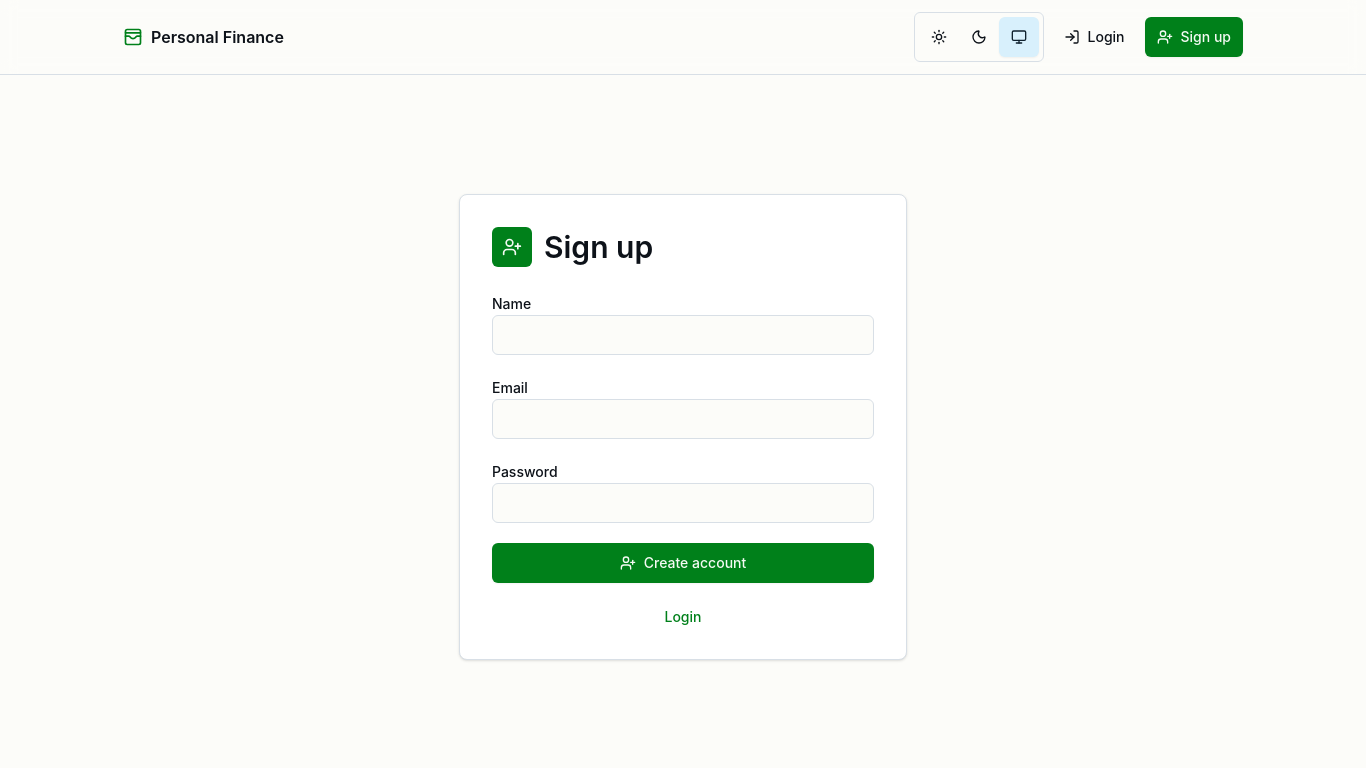
Test: creates an account and navigates to the protected home route
The width and height of the screenshot is (1366, 768).
Expected: the heading "Sign up" is shown, [544,229,653,265]
Type "Ada Lovelace" into the field labelled "Name" at [683, 335], box [492,315,874,355]
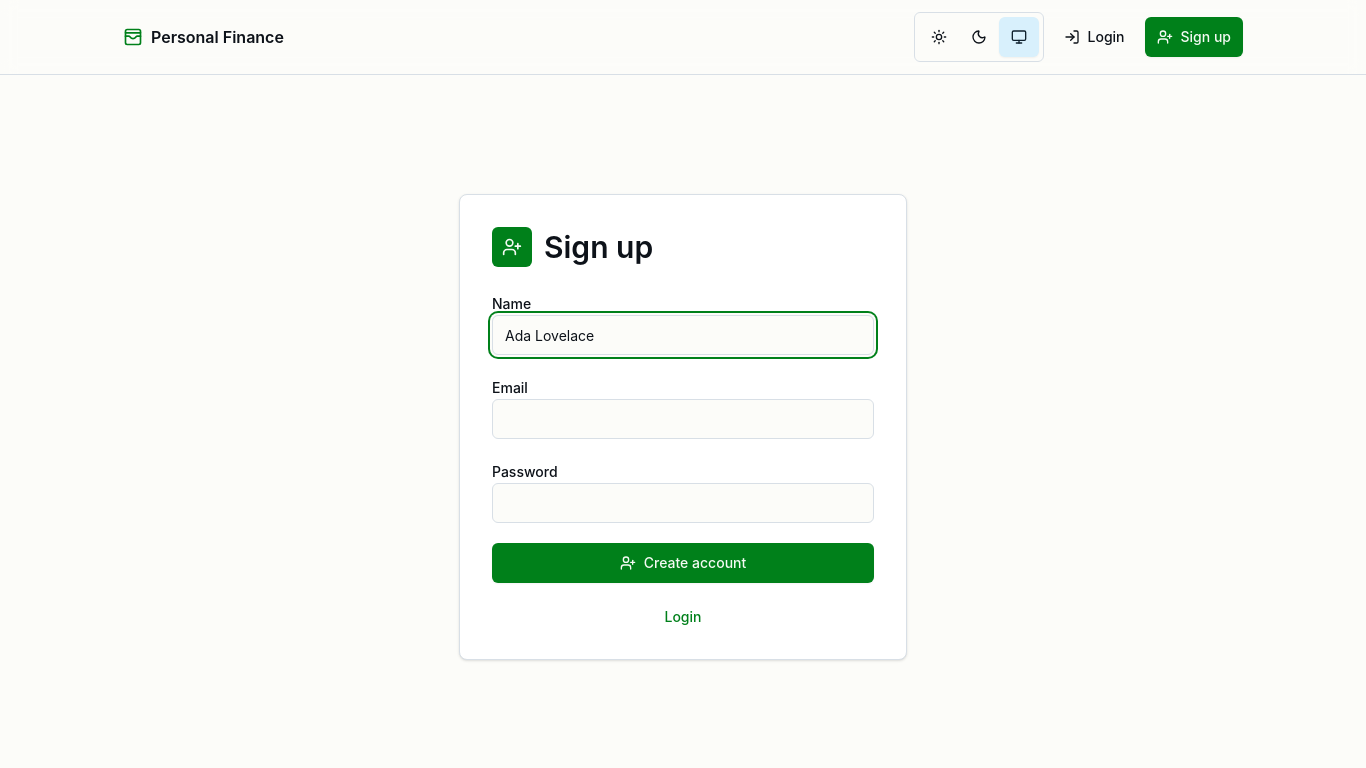
Type "ada@example.com" into the field labelled "Email" at [683, 419], box [492,399,874,439]
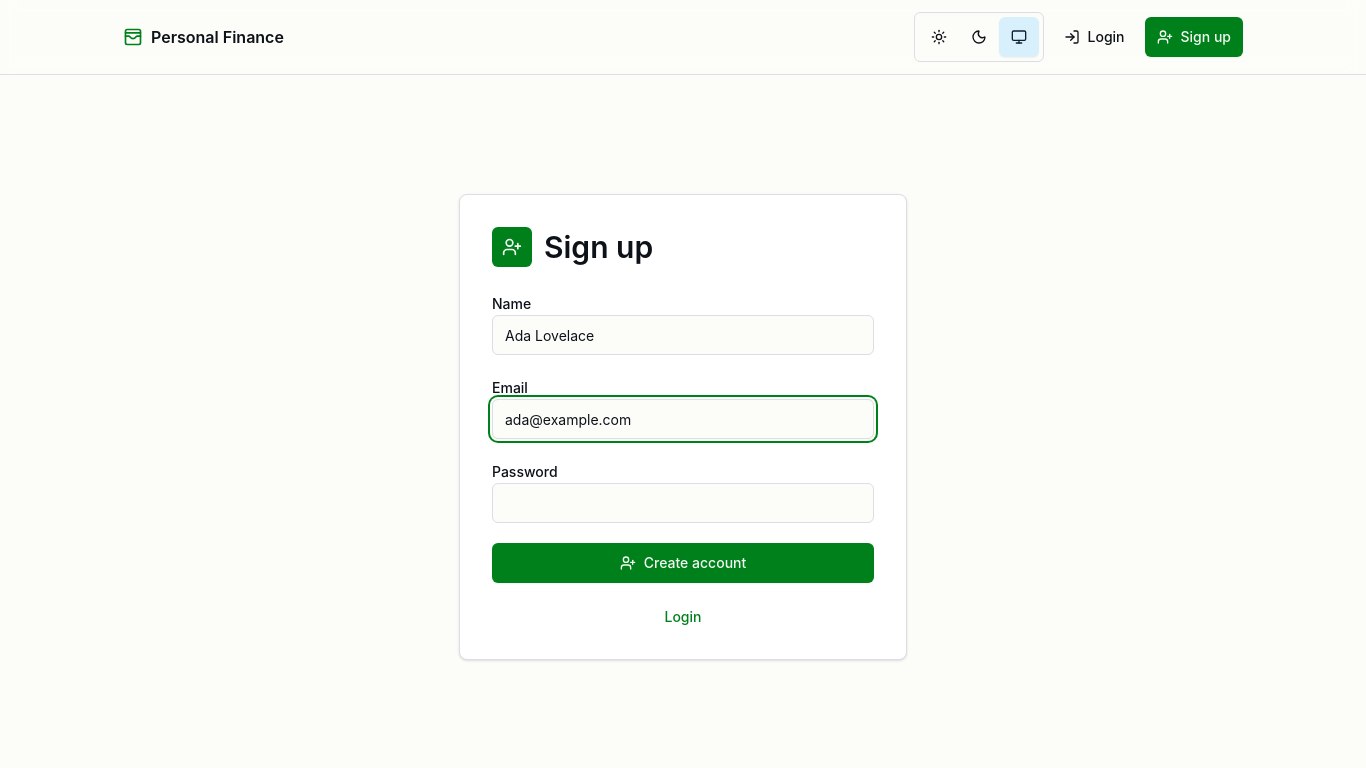
Type "correct horse battery staple" into the password field labelled "Password" at [683, 503], box [492,483,874,523]
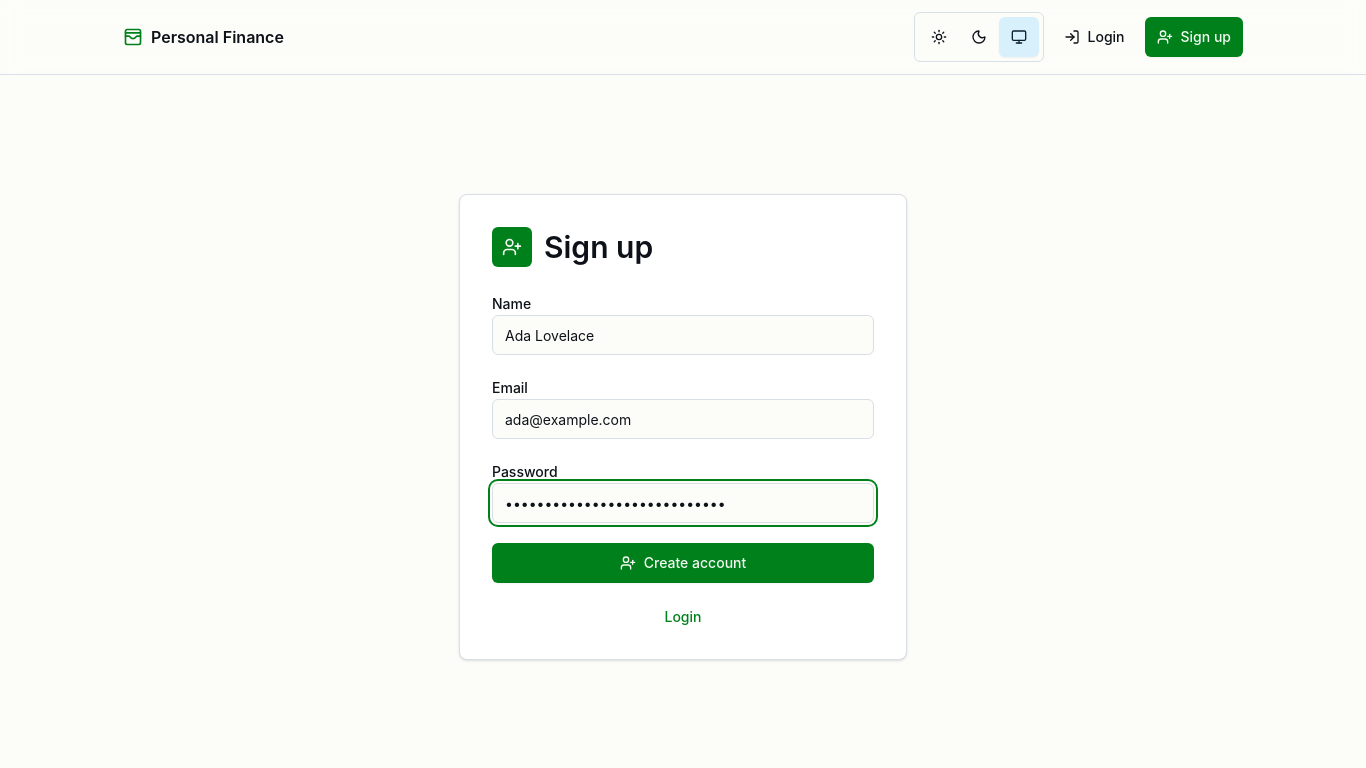
Click the button "Create account" at [683, 563], box [492,543,874,583]
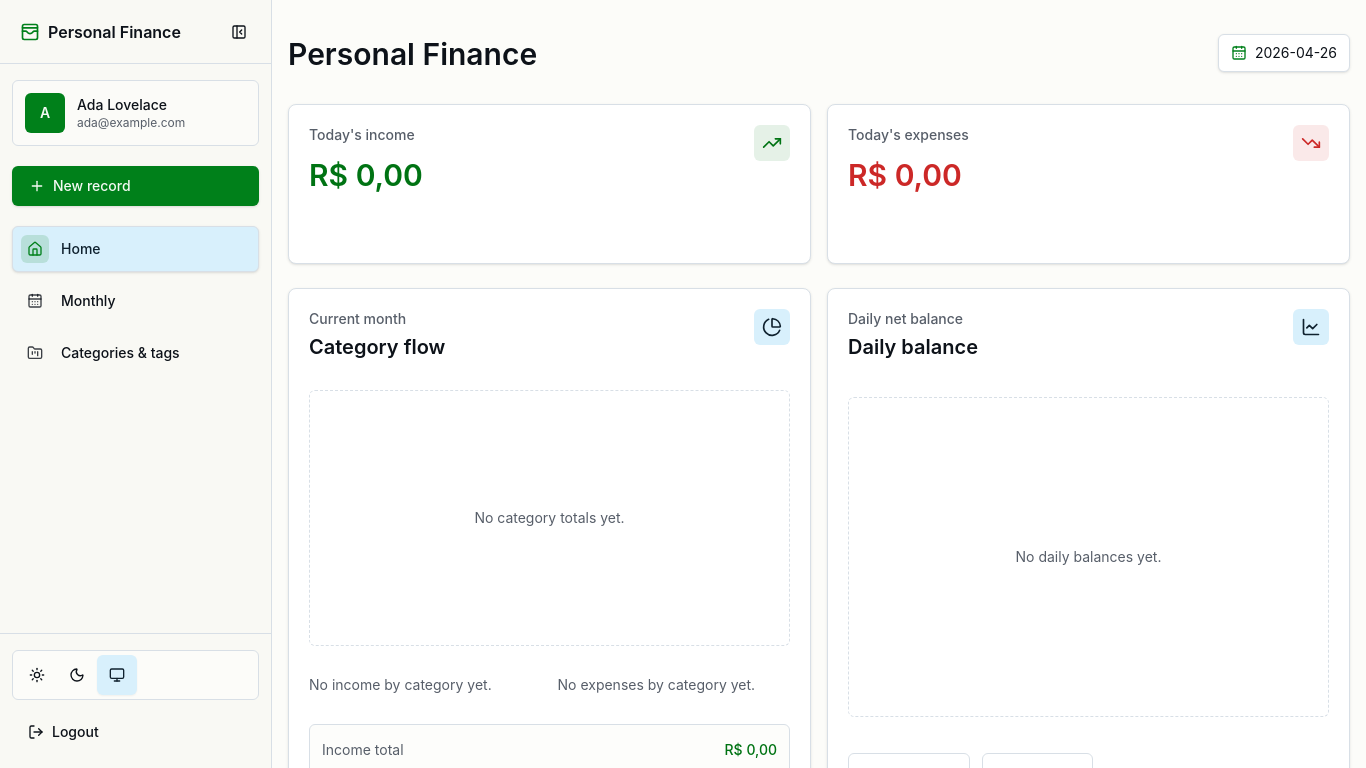
Expected: the heading "Personal Finance" is shown, [288,36,537,72]
Expected: the text "Ada Lovelace" is shown, [77,96,167,113]
